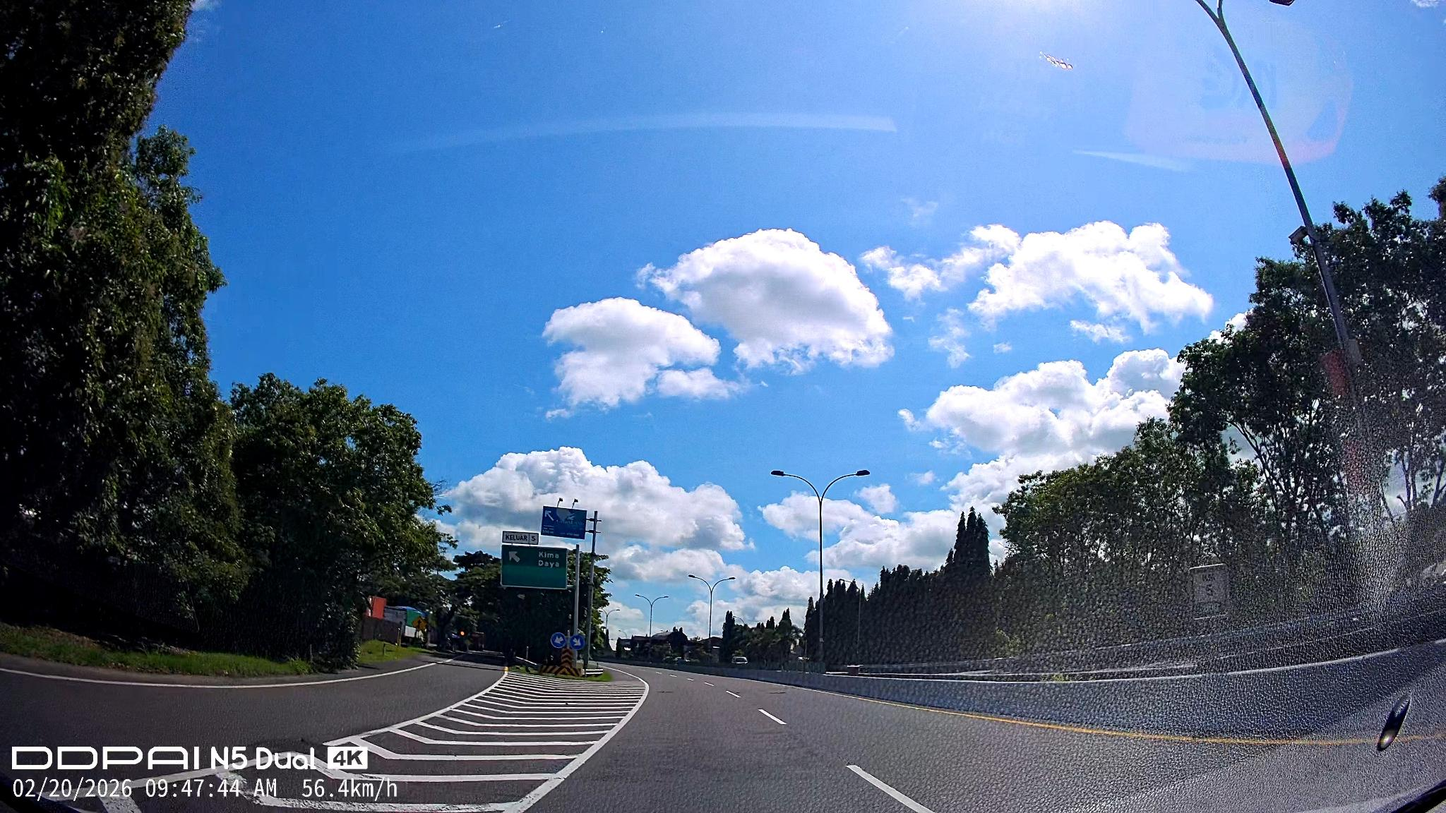rambu_teks: (501, 545, 568, 591)
